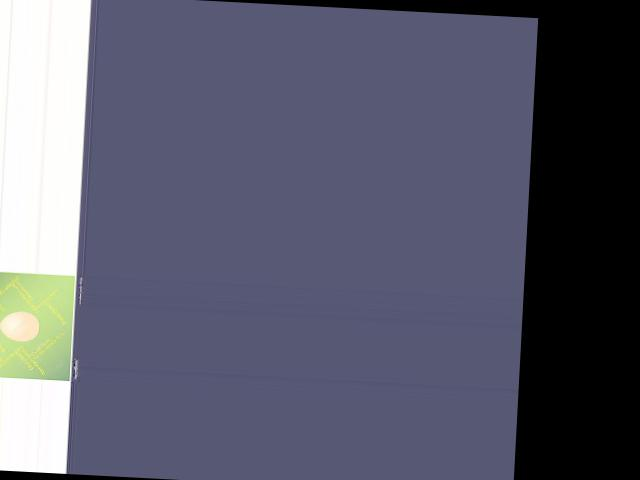egg: (0, 310, 39, 341)
